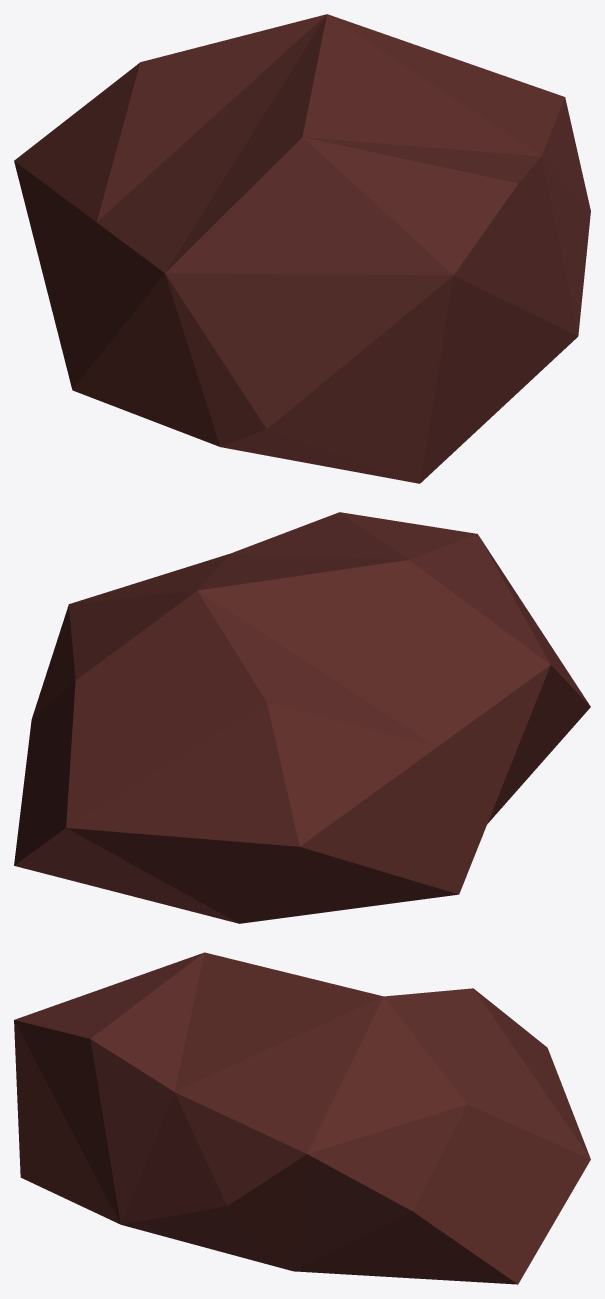
File: Rock_3_Red.fbx
The picture shows the model from 3 angles, top to bottom: view 1: azimuth 30°, elevation 25°; view 2: azimuth 150°, elevation 25°; view 3: azimuth 270°, elevation 25°; orthographic projection. The views are drawn at different scales.
Visible parts, largest first — view 1: Rock_3_Red; view 2: Rock_3_Red; view 3: Rock_3_Red.
Boxes of the visible parts, x1=… form: Rock_3_Red: x1=14, y1=14, x2=590, y2=483; Rock_3_Red: x1=14, y1=512, x2=590, y2=923; Rock_3_Red: x1=14, y1=952, x2=590, y2=1284.
Bounding box in the file's own units: 284 × 183 × 360.
